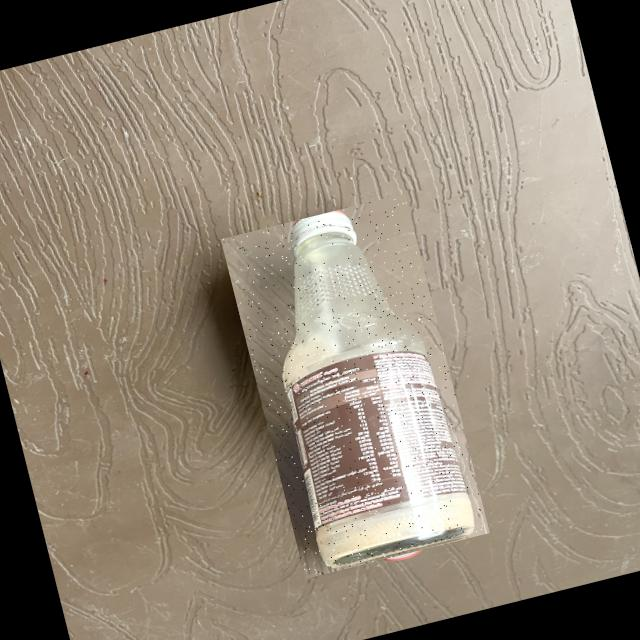Glass_Bottle: (220, 192, 490, 578)
